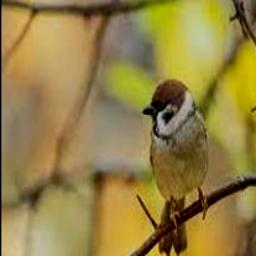Sparrow: (143, 82, 208, 253)
